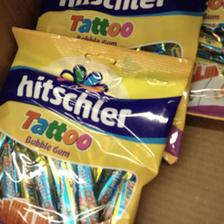Suessigkeit: (1, 27, 179, 223)
